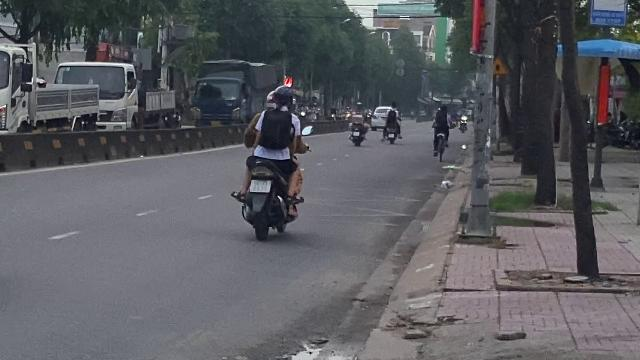helmet: (266, 84, 294, 108)
licenseplate: (249, 180, 269, 192)
motorcyclist: (232, 82, 308, 240)
